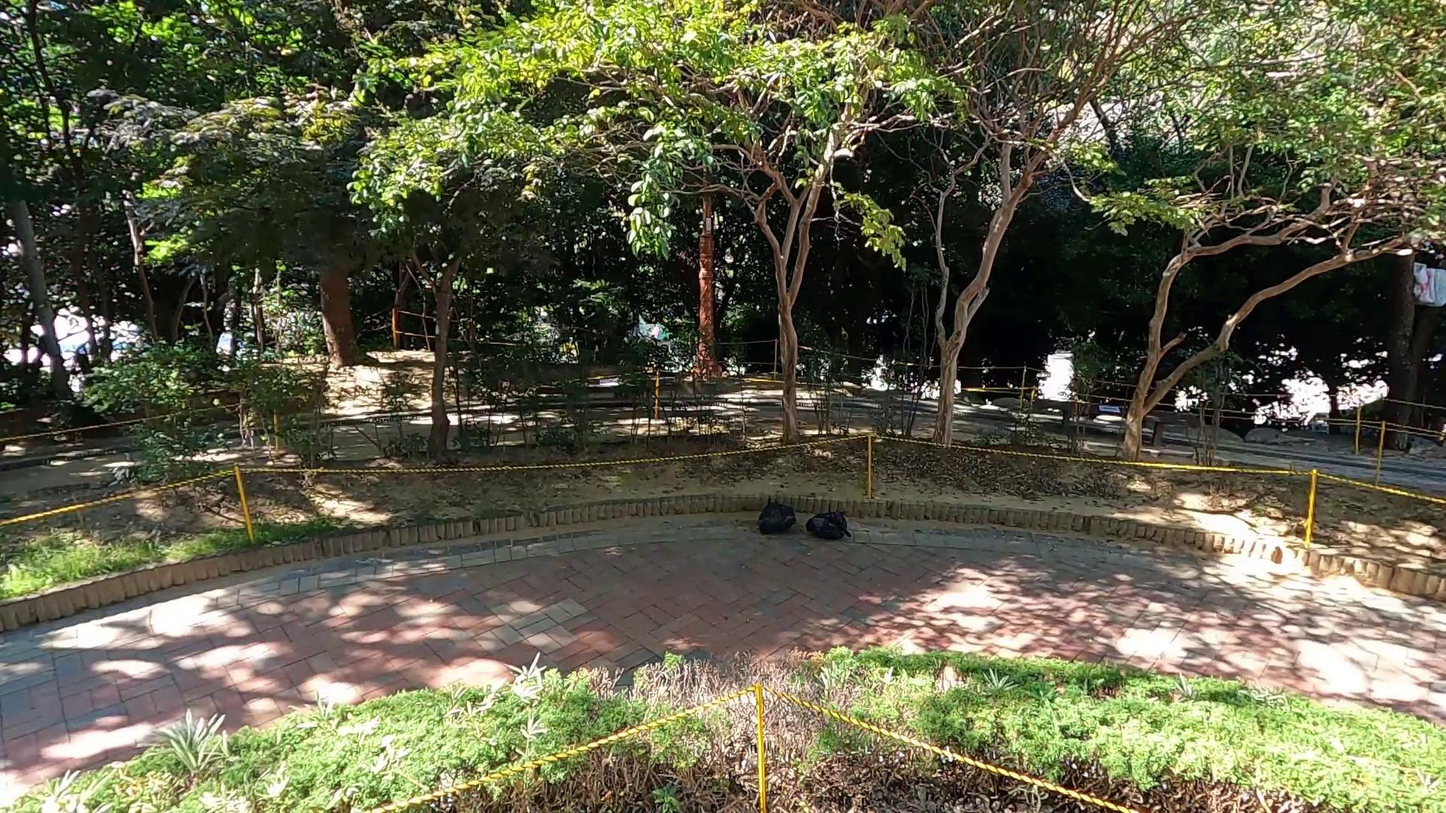trash: (755, 494, 799, 537), (804, 505, 854, 542)
